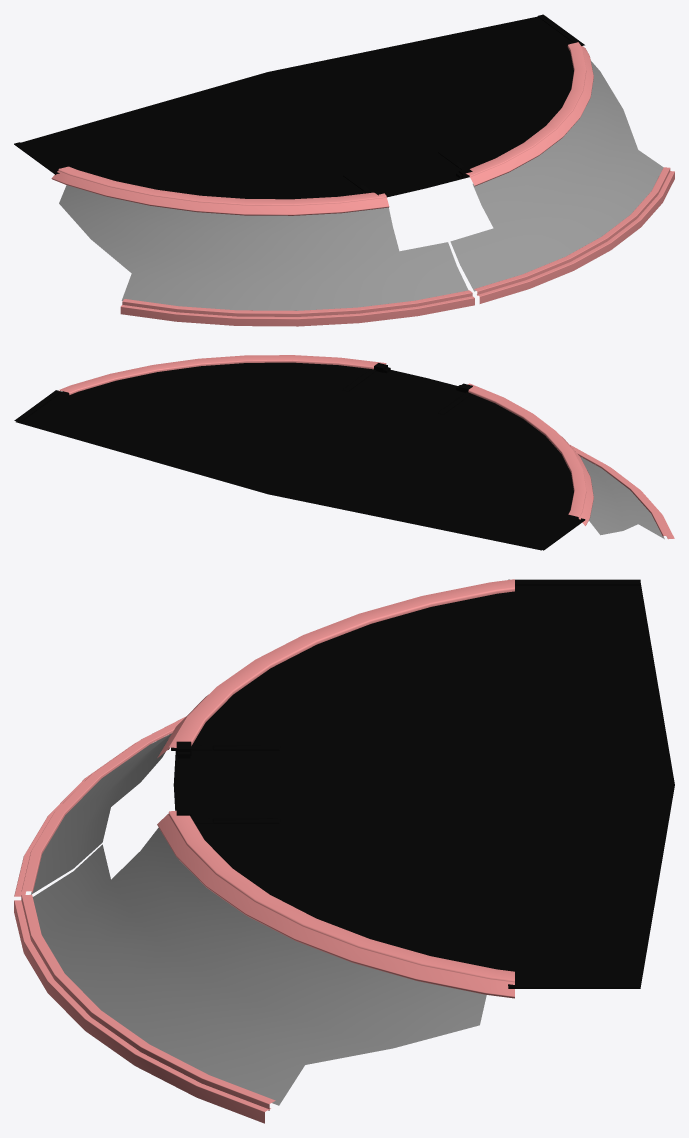
The model's file is SM_ENV_KNVLLG03_AreaD_Hokage_Hill_RoundA.gltf.
3 views of the same model, one above another, from view 1: azimuth 30°, elevation 25°; view 2: azimuth 150°, elevation 25°; view 3: azimuth 270°, elevation 25° (orthographic). The views are drawn at different scales.
Parts seen in each view (by area): view 1: SM_ENV_KNVLLG03_AreaD_Hokage_Hill_RoundA; view 2: SM_ENV_KNVLLG03_AreaD_Hokage_Hill_RoundA; view 3: SM_ENV_KNVLLG03_AreaD_Hokage_Hill_RoundA.
Boxes of the visible parts, x1,y1,x2,y2 form: SM_ENV_KNVLLG03_AreaD_Hokage_Hill_RoundA: (14, 14, 674, 326); SM_ENV_KNVLLG03_AreaD_Hokage_Hill_RoundA: (14, 355, 674, 550); SM_ENV_KNVLLG03_AreaD_Hokage_Hill_RoundA: (14, 579, 674, 1123).
Size of the model in its own units: 48.23 by 6.97 by 31.56.
